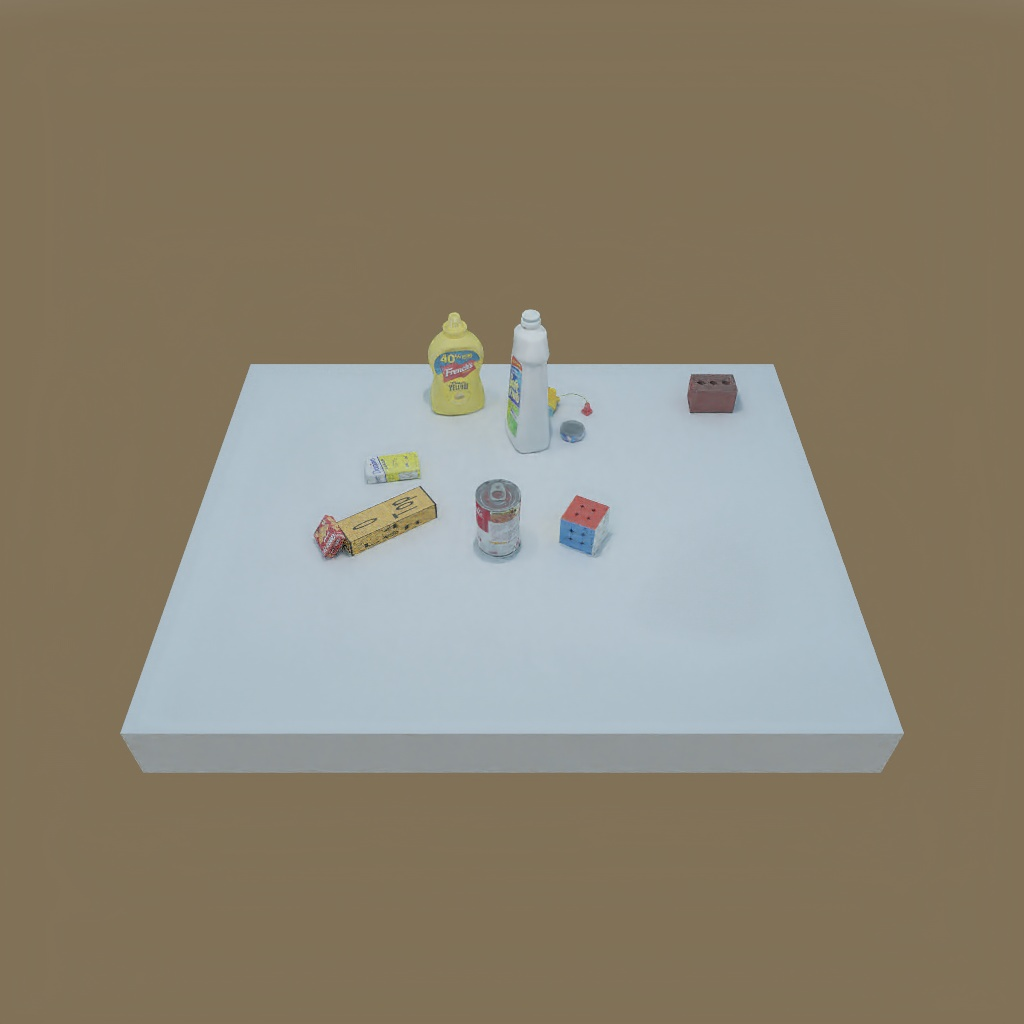jenga: (339, 485, 441, 555)
mustard_bottle: (428, 313, 489, 421)
rubiks_cube: (559, 494, 613, 553)
tomato_soup_can: (471, 467, 528, 559)
